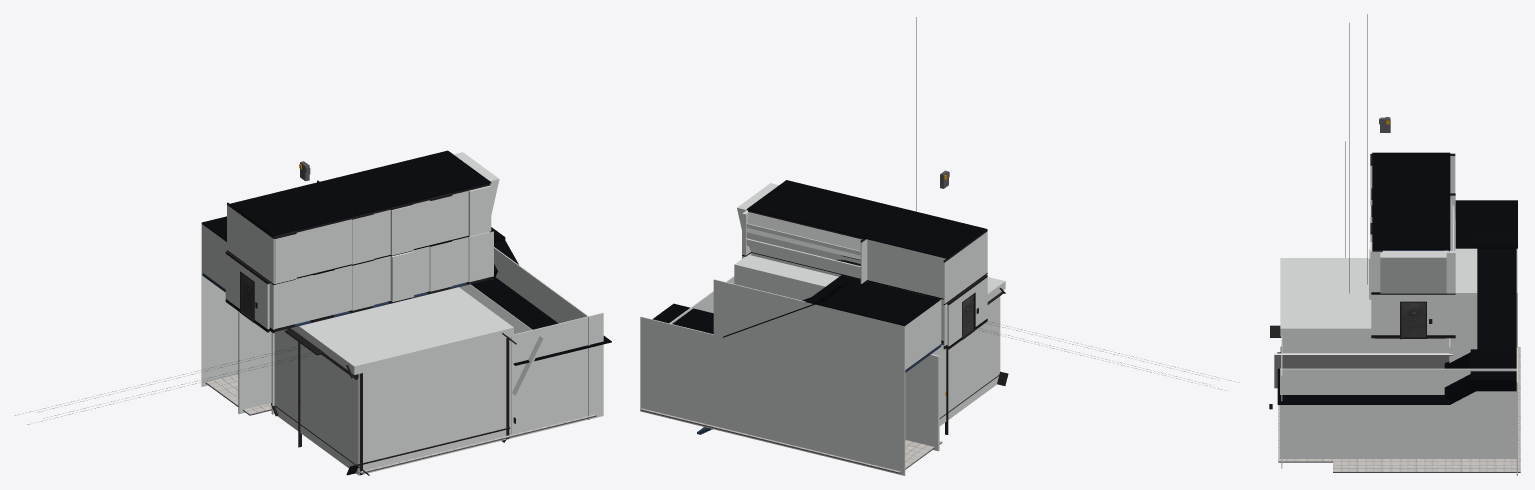
The model's file is SCP 012 Containment Chamber.obj.
3 views of the same model, side by side, from view 1: azimuth 30°, elevation 25°; view 2: azimuth 150°, elevation 25°; view 3: azimuth 270°, elevation 25° (orthographic). The views are drawn at different scales.
Parts seen in each view (by area): view 1: Part64, Part78, Part95, Part28, Part153, Part276, Part100, Part62, Part248, Part46, Part47, Part211 (+23 smaller); view 2: Part276, Part95, Part283, Part153, Part213, Part100, Part202, Part59, Part60, Part248, Part476, Part211 (+4 smaller); view 3: Part62, Part95, Part78, Part216, Part47, Wedge1, Part202, Part213, Part250, Part46, Part63, Part353 (+12 smaller).
Boxes of the visible parts, x1,y1,x2,y2 form: Part64: [363, 337, 511, 474]; Part78: [290, 287, 513, 374]; Part95: [229, 150, 491, 236]; Part28: [511, 312, 603, 438]; Part153: [274, 329, 359, 475]; Part276: [201, 224, 238, 386]; Part100: [238, 311, 271, 414]; Part62: [494, 247, 589, 419]; Part248: [227, 205, 274, 283]; Part46: [471, 277, 611, 365]; Part47: [459, 284, 544, 395]; Part211: [202, 224, 226, 288]; Part276: [713, 279, 905, 475]; Part95: [746, 180, 986, 258]; Part283: [640, 316, 713, 429]; Part153: [932, 296, 1000, 425]; Part213: [806, 275, 940, 326]; Part100: [905, 354, 939, 451]; Part202: [734, 255, 838, 300]; Part59: [746, 212, 861, 259]; Part60: [746, 223, 860, 273]; Part248: [943, 231, 987, 303]; Part476: [903, 248, 945, 298]; Part211: [905, 300, 940, 369]; Part62: [1280, 368, 1517, 458]; Part95: [1372, 152, 1450, 249]; Part78: [1280, 258, 1371, 336]; Part216: [1470, 230, 1517, 349]; Part47: [1274, 353, 1452, 388]; Wedge1: [1380, 252, 1446, 293]; Part202: [1450, 248, 1477, 362]; Part213: [1455, 200, 1517, 248]; Part250: [1470, 349, 1516, 391]; Part46: [1277, 368, 1449, 404]; Part63: [1354, 335, 1449, 353]; Part353: [1371, 294, 1399, 335].
Size of the model in its own units: 109 by 79.09 by 46.89.
Materials: 28 (12 with a texture image).
